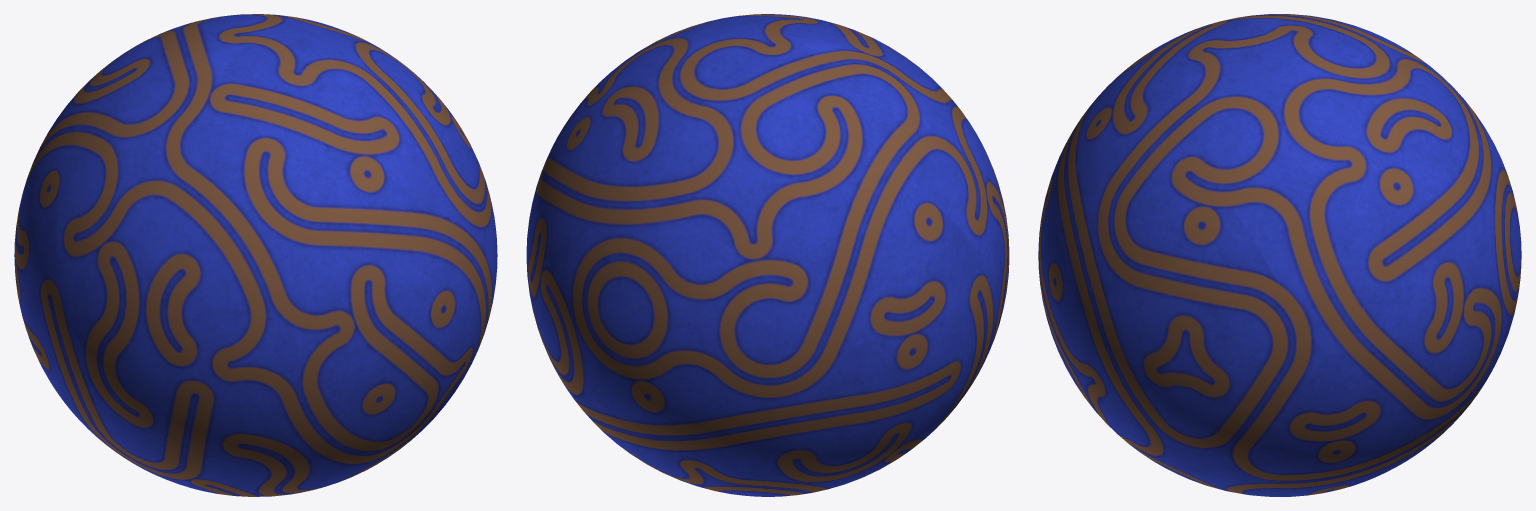
The model's file is metal-ball.glb.
3 views of the same model, side by side, from view 1: azimuth 30°, elevation 25°; view 2: azimuth 150°, elevation 25°; view 3: azimuth 270°, elevation 25° (orthographic).
Parts seen in each view (by area): view 1: bool_low; view 2: bool_low; view 3: bool_low.
Part boxes in pixels (x1,y1,x2,y2): bool_low: (14, 14, 497, 496); bool_low: (526, 14, 1009, 496); bool_low: (1038, 14, 1521, 496).
Size of the model in its own units: 0.1 by 0.1 by 0.1.
1 material, 1 textured.
